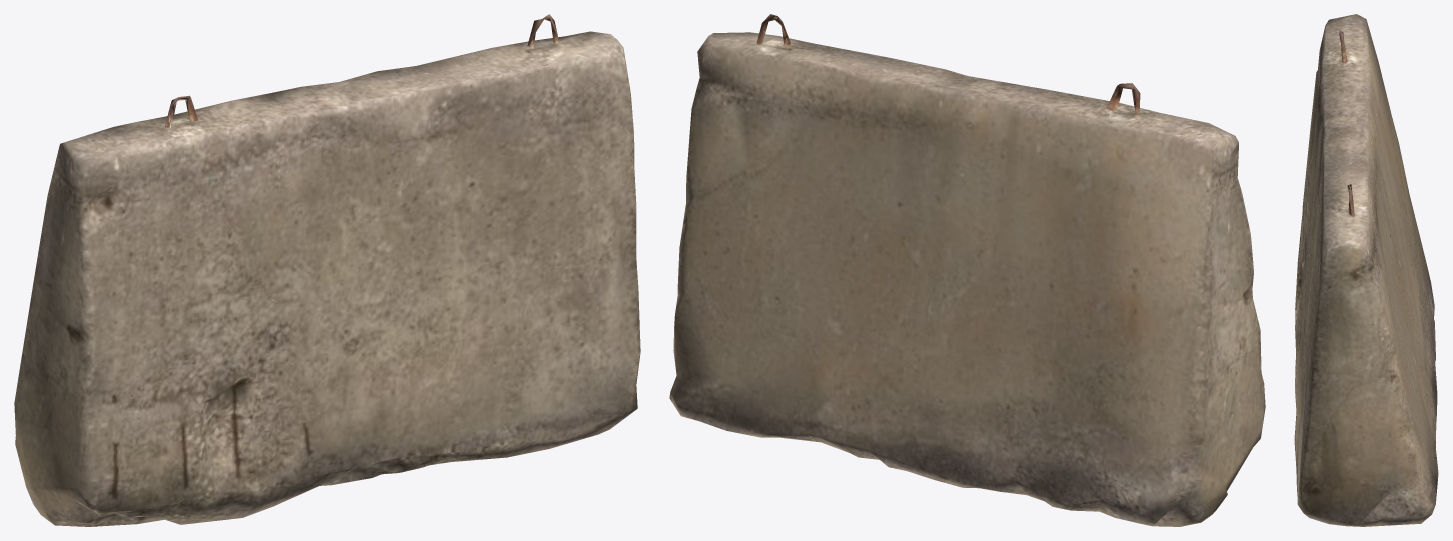
Rendered from betonsperre.glb.
3 views of the same model, side by side, from view 1: azimuth 30°, elevation 25°; view 2: azimuth 150°, elevation 25°; view 3: azimuth 270°, elevation 25° (orthographic). The views are drawn at different scales.
Visible parts, largest first — view 1: concrete_road_barrier_02; view 2: concrete_road_barrier_02; view 3: concrete_road_barrier_02.
Part boxes in pixels (x1,y1,x2,y2): concrete_road_barrier_02: (14,14,640,526); concrete_road_barrier_02: (669,14,1265,526); concrete_road_barrier_02: (1294,14,1438,526).
Bounding box in the file's own units: 1.56 × 1.11 × 0.437.
Materials: 1 (1 with a texture image).
